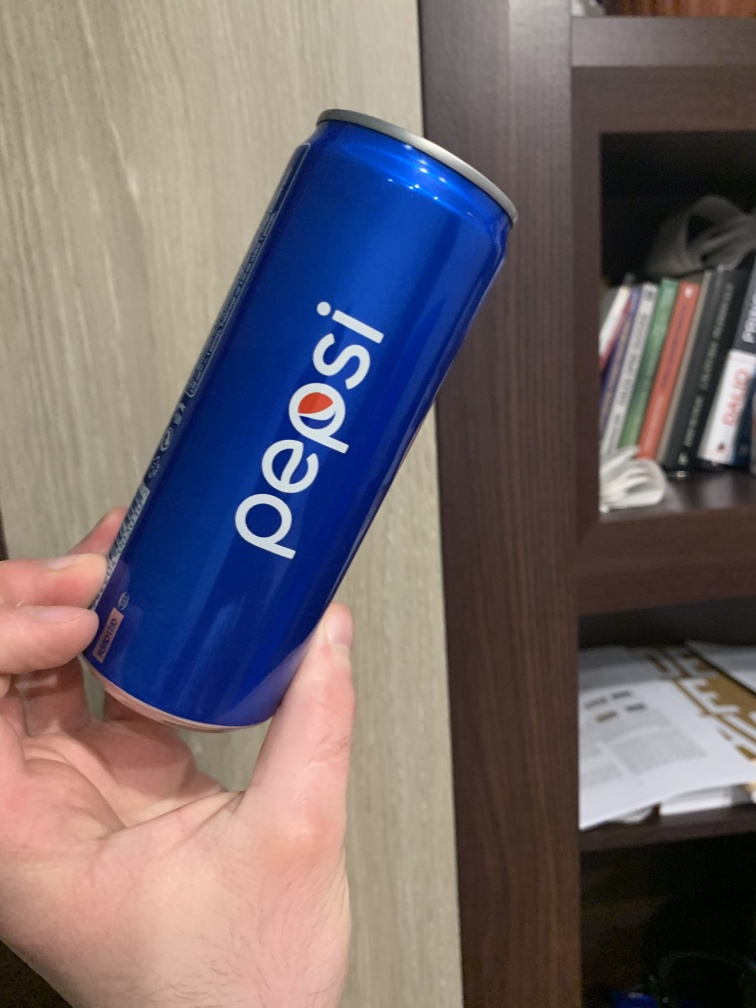pepsi: (64, 103, 523, 766)
